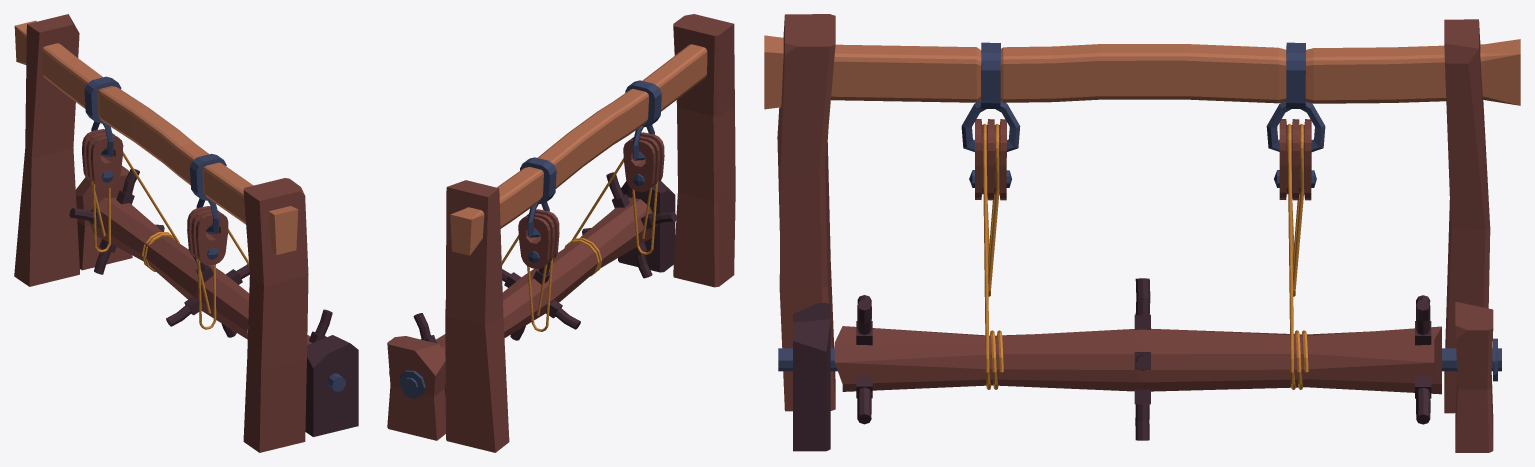
File: Wall_Gate_Mechanism_01.fbx
3 renders of one model, left to right at view 1: azimuth 30°, elevation 25°; view 2: azimuth 150°, elevation 25°; view 3: azimuth 270°, elevation 25°, orthographic. The views are drawn at different scales.
Visible parts, largest first — view 1: GateMechanism_01, Pulley_01, Pulley_02, GateRope_1; view 2: GateMechanism_01, Pulley_01, Pulley_02, GateRope_2; view 3: GateMechanism_01, Pulley_01, Pulley_02, GateRope_2, GateRope_1.
Boxes of the visible parts, <box> form: GateMechanism_01: <box>14,14,358,452</box>; Pulley_01: <box>82,129,123,188</box>; Pulley_02: <box>187,206,228,265</box>; GateRope_1: <box>95,151,179,252</box>; GateMechanism_01: <box>387,14,735,452</box>; Pulley_01: <box>518,209,559,268</box>; Pulley_02: <box>623,132,664,192</box>; GateRope_2: <box>571,158,652,254</box>; GateMechanism_01: <box>764,14,1520,452</box>; Pulley_01: <box>1274,119,1316,200</box>; Pulley_02: <box>969,119,1011,200</box>; GateRope_2: <box>983,124,999,372</box>; GateRope_1: <box>1287,123,1304,372</box>.
Size of the model in its own units: 216 by 409 by 769.
